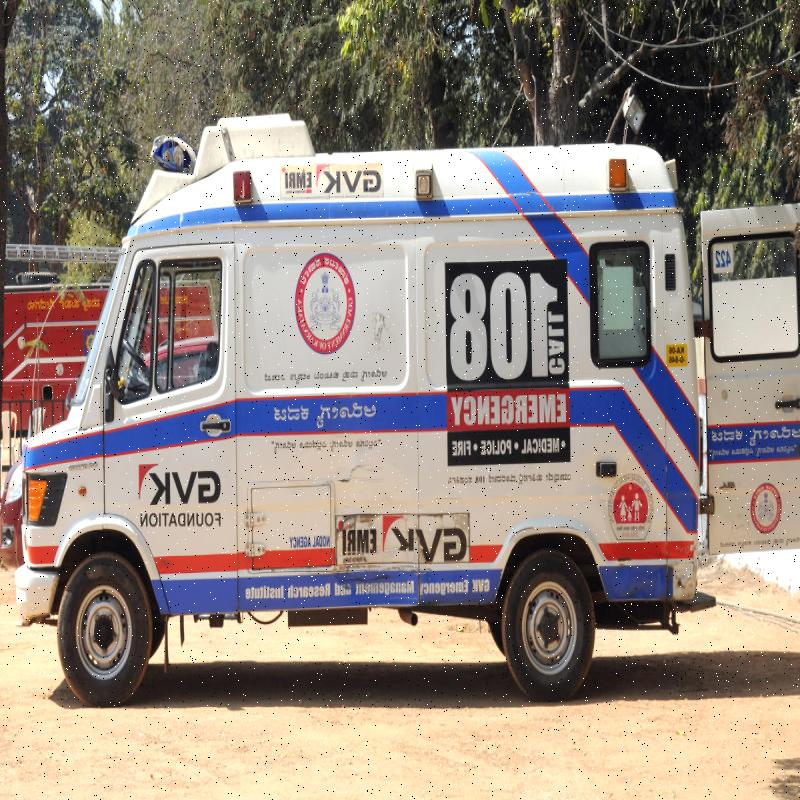ambulance: (45, 131, 695, 672)
